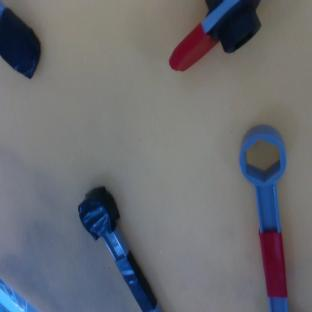part_1_bad: (0, 3, 40, 78)
part_3_bad: (71, 183, 162, 312)
part_3_good: (235, 122, 303, 312)
